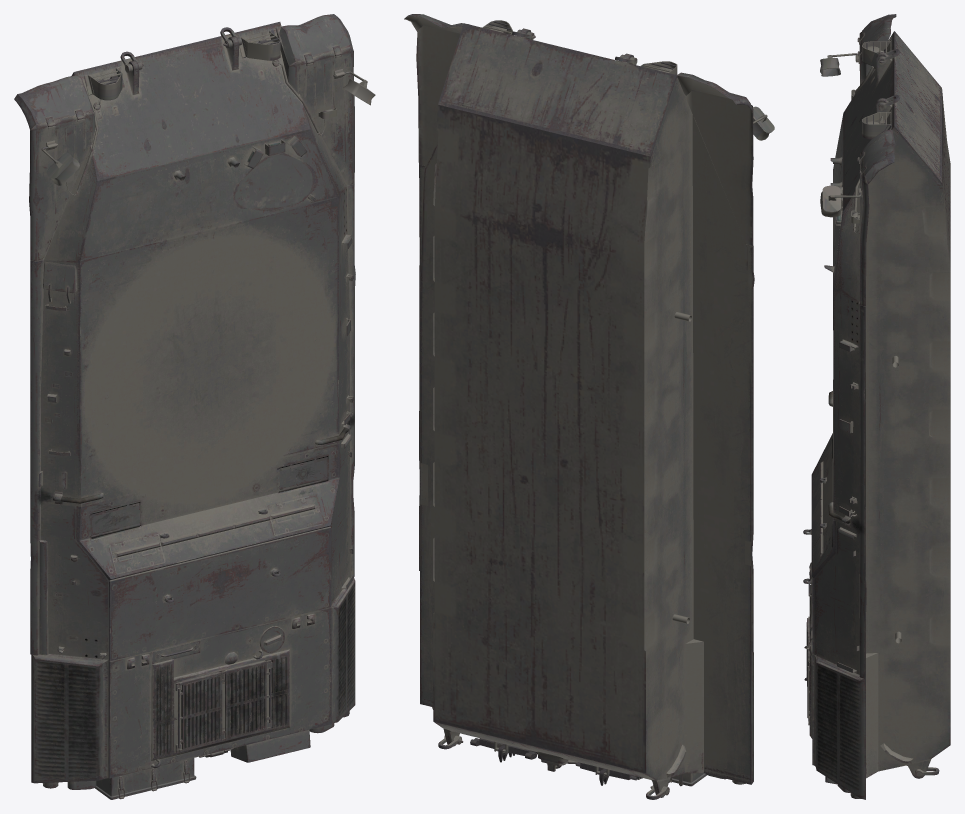
Rendered from Hull.glb.
3 views of the same model, side by side, from view 1: azimuth 30°, elevation 25°; view 2: azimuth 150°, elevation 25°; view 3: azimuth 270°, elevation 25° (orthographic). The views are drawn at different scales.
Parts seen in each view (by area): view 1: set_0_group_0; view 2: set_0_group_0; view 3: set_0_group_0.
Part boxes in pixels (x1=…): set_0_group_0: x1=14, y1=14, x2=375, y2=799; set_0_group_0: x1=404, y1=14, x2=774, y2=799; set_0_group_0: x1=803, y1=14, x2=950, y2=799.
Size of the model in its own units: 3.28 by 6.83 by 1.36.
Materials: 1 (1 with a texture image).
